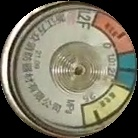green: (114, 52, 138, 92)
needle: (101, 77, 133, 90)
red: (94, 12, 135, 52)
yellow: (83, 84, 131, 124)
